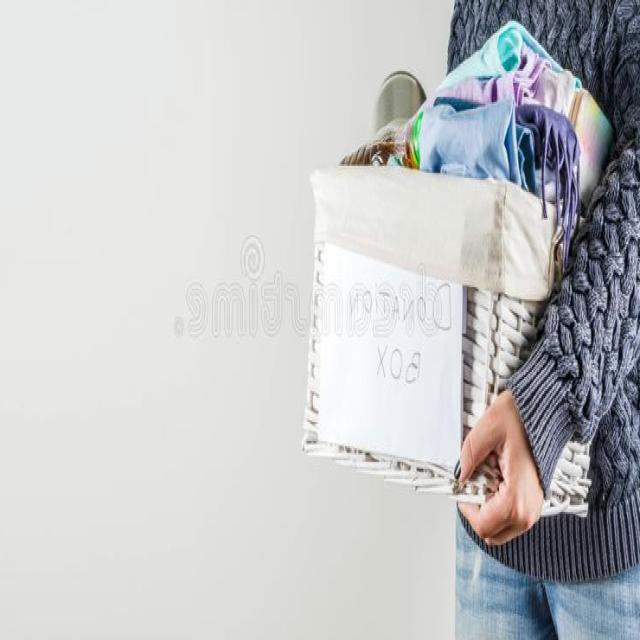clothes: (426, 45, 588, 168)
